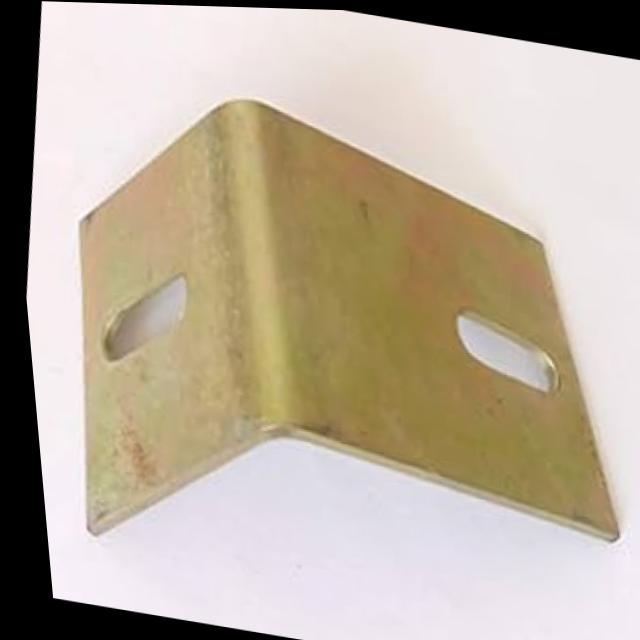holes: (96, 257, 185, 374), (446, 302, 559, 393)
